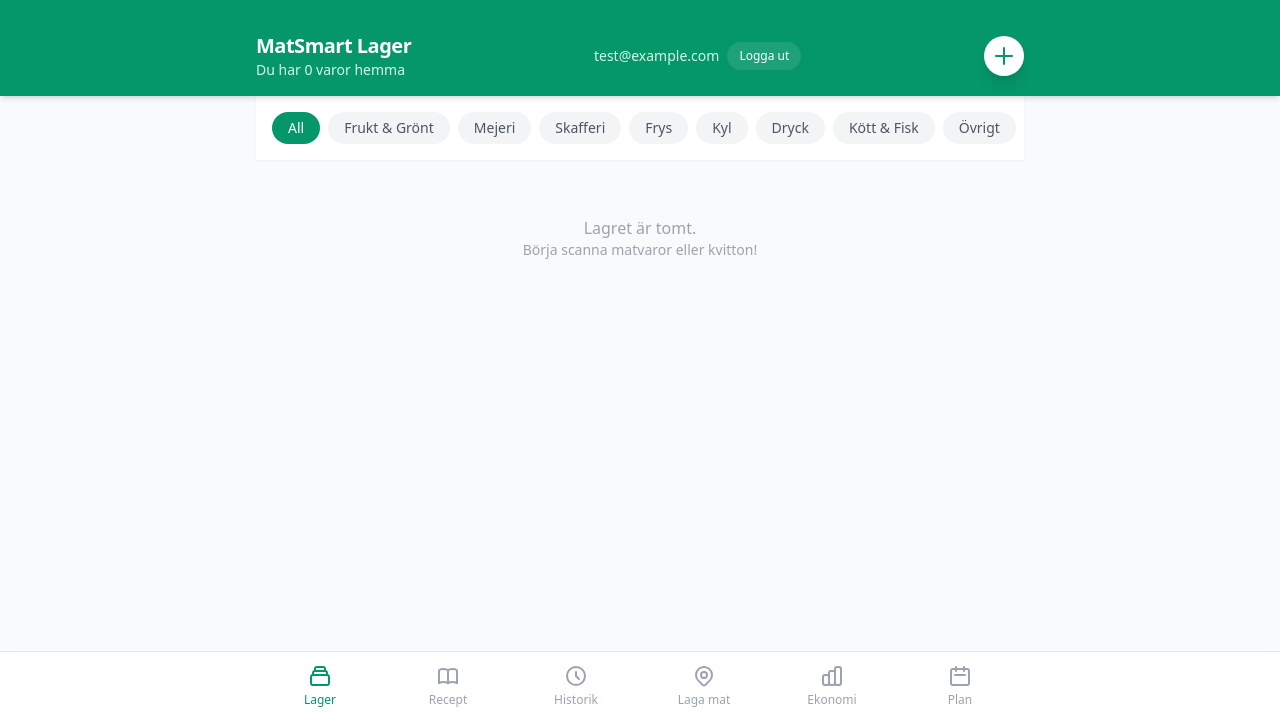
Scenario: App Integration Tests › allows navigation between tabs
Expected: the text "Lager" is shown, [304,692,336,708]
Navigate to cooking tab
Click the button "Laga mat": (704, 686) [640,652,768,719]
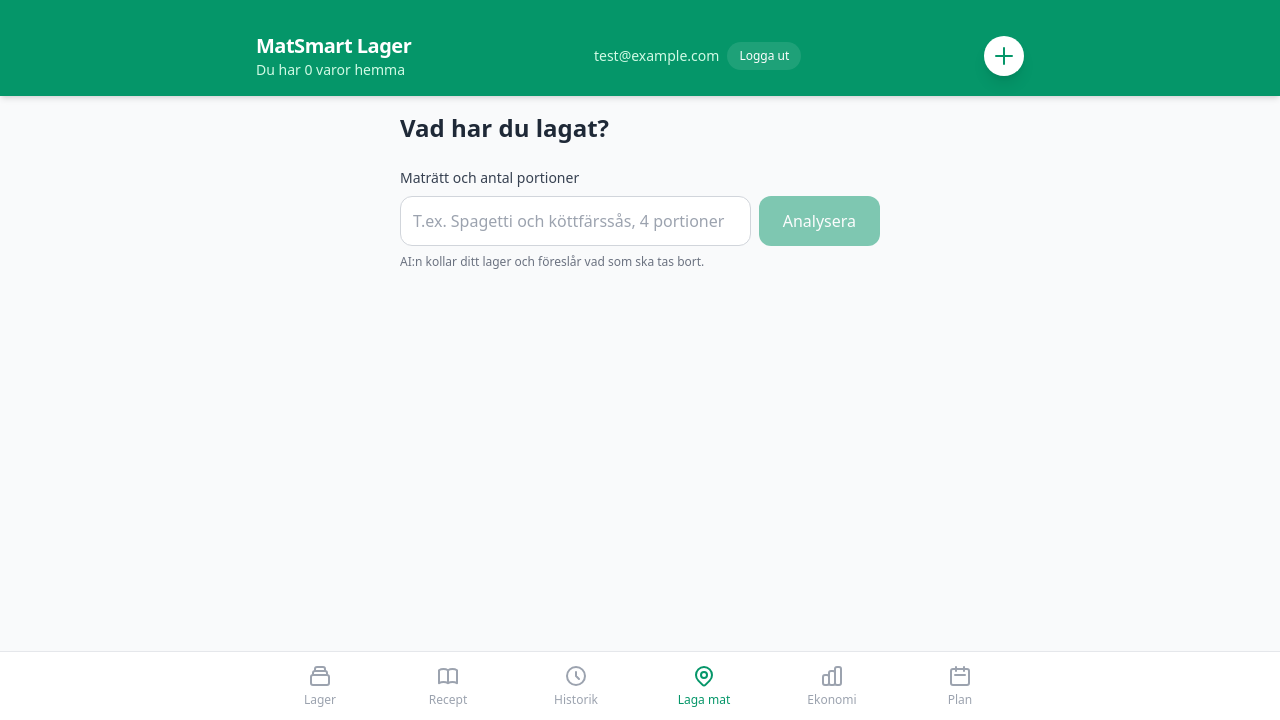
Now the heading "Vad har du lagat?" is shown, box [400,111,609,144]
Navigate to stats tab
Click the button "Ekonomi": (832, 686) [768,652,896,719]
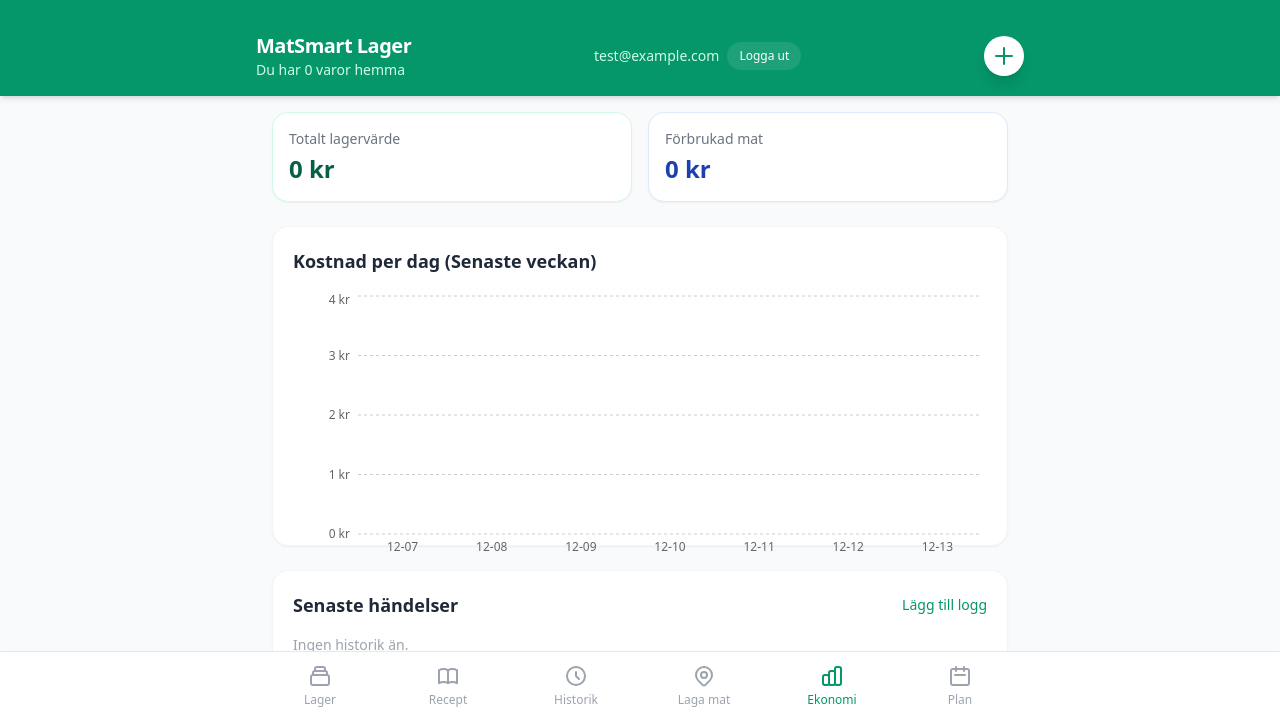
Now the heading "Kostnad per dag (Senaste veckan)" is shown, box [293,249,596,273]
Navigate to recipes tab
Click the button "Recept": (448, 686) [384,652,512,719]
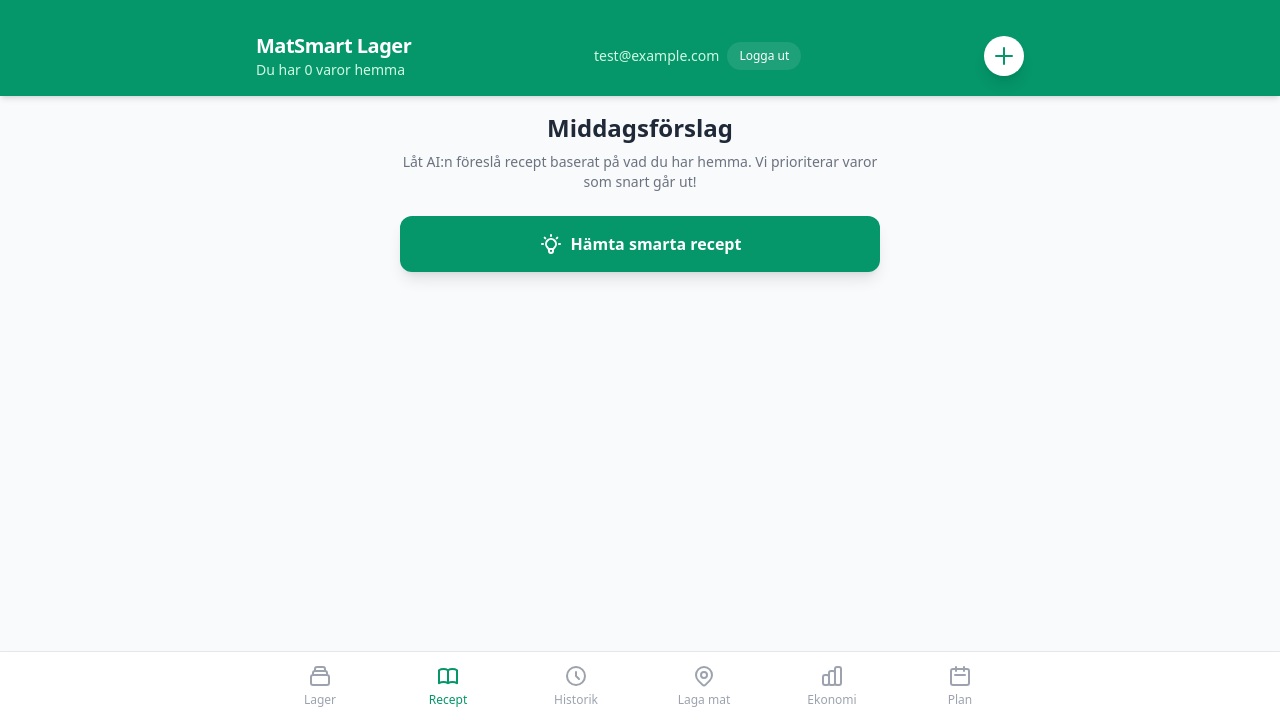
Now the heading "Middagsförslag" is shown, box [547,111,733,144]
Navigate to history tab
Click the button "Historik": (576, 686) [512,652,640,719]
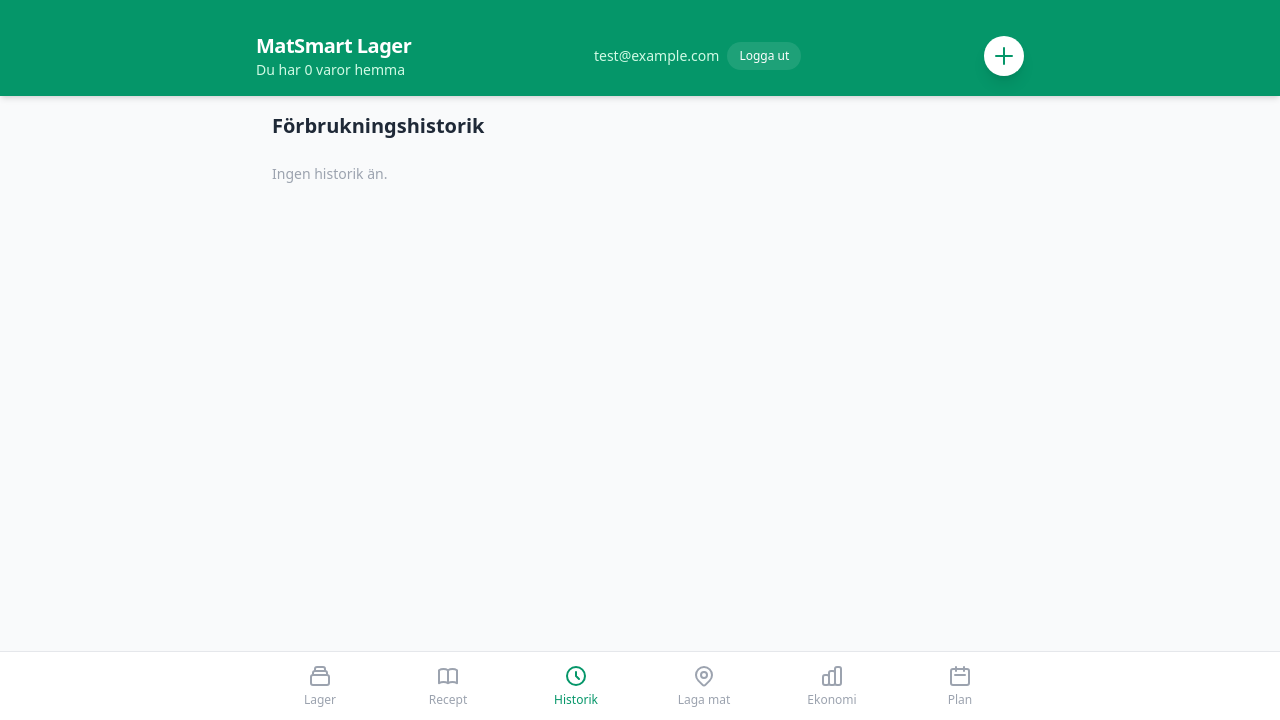
Now the heading "Förbrukningshistorik" is shown, box [272,112,484,139]
Navigate back to inventory
Click the button "Lager": (320, 686) [256,652,384,719]
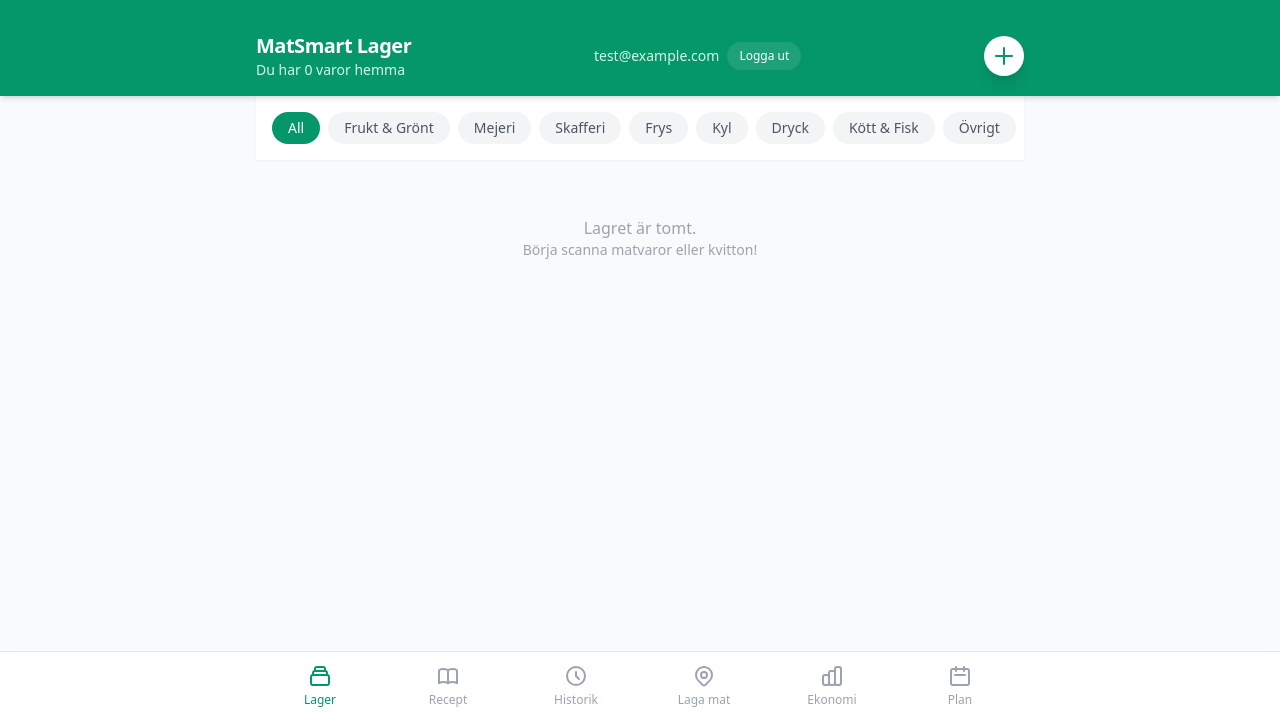
Now the button "All" is shown, box [272,112,320,144]
